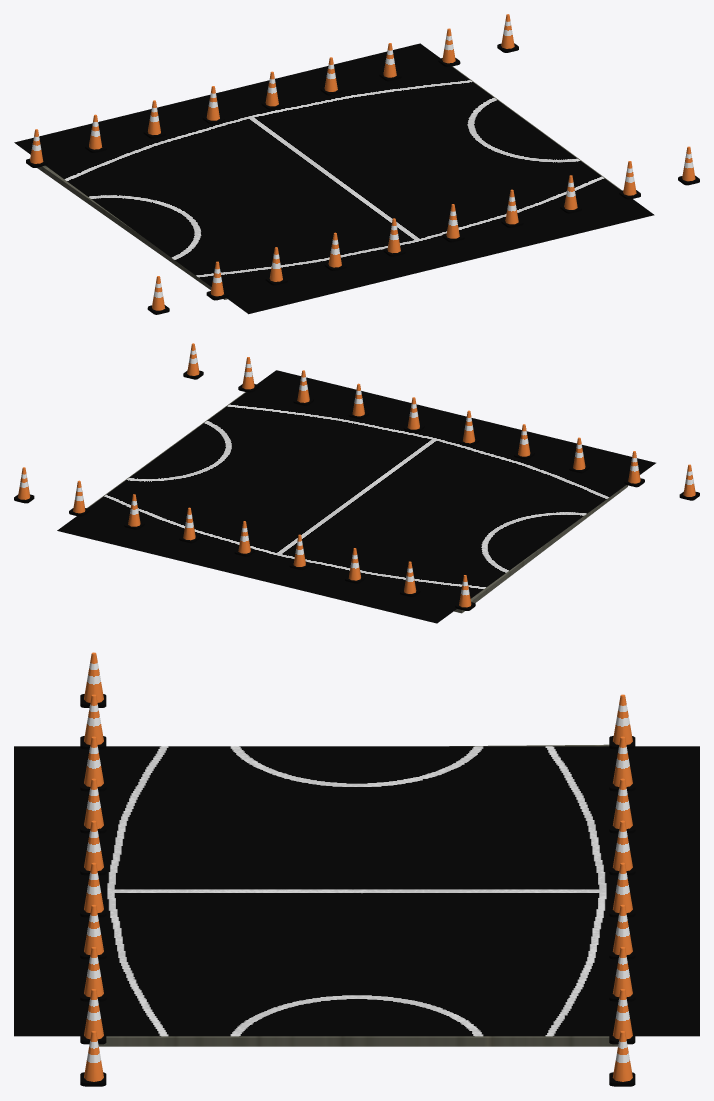
The model's file is EgyptPlayArea.fbx.
3 views of the same model, one above another, from view 1: azimuth 30°, elevation 25°; view 2: azimuth 150°, elevation 25°; view 3: azimuth 270°, elevation 25° (orthographic). The views are drawn at different scales.
Visible parts, largest first — view 1: Chalk field, Field Boundaries; view 2: Chalk field, Field Boundaries; view 3: Chalk field, Field Boundaries, Cube.046, Cube.069, Cube.070, Cube.009, Cube.078, Cube.077, Cube.066, Cube.067, Cube.074, Cube.075 (+9 smaller).
Boxes of the visible parts, <box> form: Chalk field: <box>14,43,654,314</box>; Field Boundaries: <box>37,66,621,299</box>; Chalk field: <box>57,370,655,623</box>; Field Boundaries: <box>87,392,627,613</box>; Chalk field: <box>14,746,699,1036</box>; Field Boundaries: <box>98,744,618,1046</box>; Cube.046: <box>609,1031,635,1086</box>; Cube.069: <box>80,1031,106,1086</box>; Cube.070: <box>80,989,106,1044</box>; Cube.009: <box>609,989,635,1044</box>; Cube.078: <box>80,652,106,707</box>; Cube.077: <box>80,694,106,749</box>; Cube.066: <box>609,736,635,791</box>; Cube.067: <box>609,694,635,749</box>; Cube.074: <box>80,820,106,875</box>; Cube.075: <box>80,778,106,833</box>.
Size of the model in its own units: 1959 by 135 by 1458.
